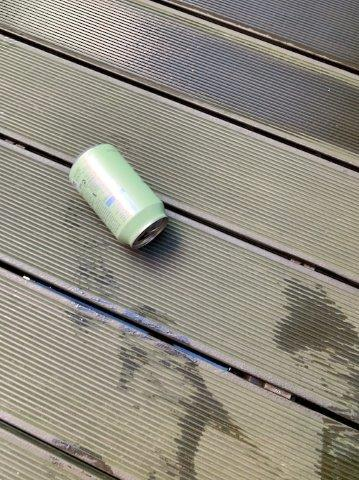kaleng: (71, 145, 168, 247)
